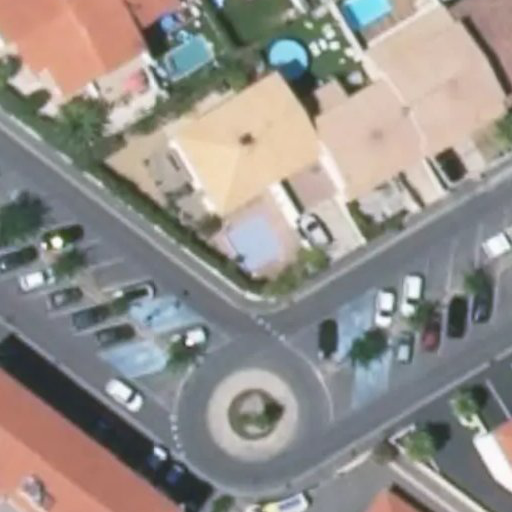pool: (220, 212, 288, 272), (163, 37, 212, 76), (342, 1, 391, 34), (270, 40, 309, 81)
